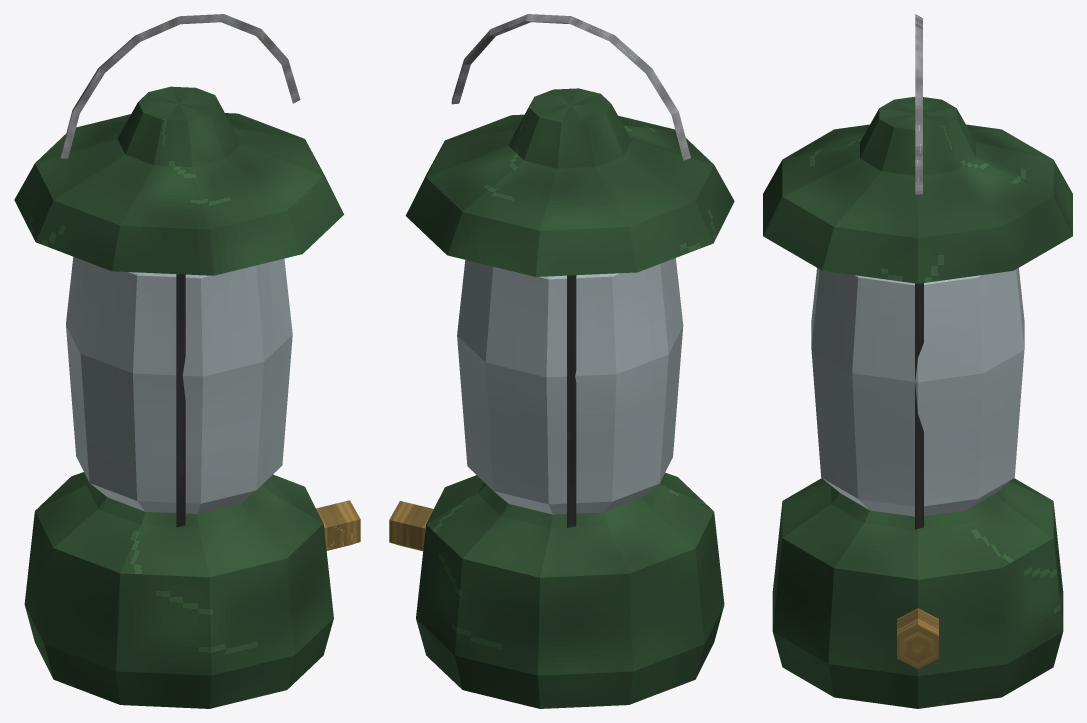
Rendered from CAMP_Lantern_01.fbx.
The picture shows the model from 3 angles, left to right: view 1: azimuth 30°, elevation 25°; view 2: azimuth 150°, elevation 25°; view 3: azimuth 270°, elevation 25°; orthographic projection.
Parts seen in each view (by area): view 1: CAMP_Lantern_01; view 2: CAMP_Lantern_01; view 3: CAMP_Lantern_01.
Boxes of the visible parts, box(x1,y1,x2,y2) form: CAMP_Lantern_01: box(14, 14, 360, 708); CAMP_Lantern_01: box(389, 14, 734, 708); CAMP_Lantern_01: box(763, 14, 1072, 708).
Bounding box in the file's own units: 0.175 × 0.3372 × 0.1522.
Materials: 6 (6 with a texture image).
